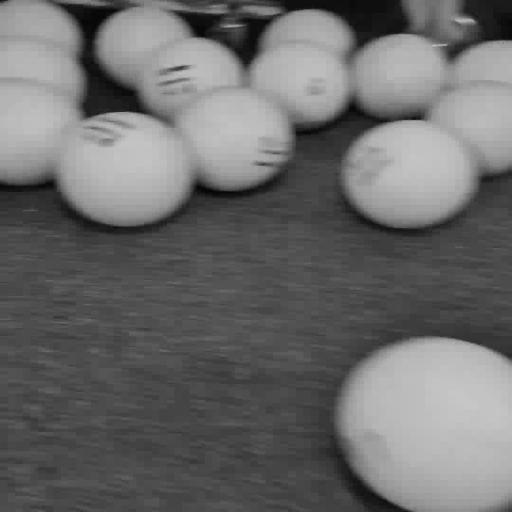fuel: (335, 337, 511, 511), (55, 112, 195, 227), (339, 120, 479, 229), (174, 87, 294, 191), (247, 42, 352, 131), (136, 37, 243, 121), (0, 79, 82, 185), (351, 34, 448, 120), (94, 6, 194, 89), (427, 82, 511, 176), (0, 38, 86, 104), (259, 9, 356, 56), (450, 40, 511, 87)
